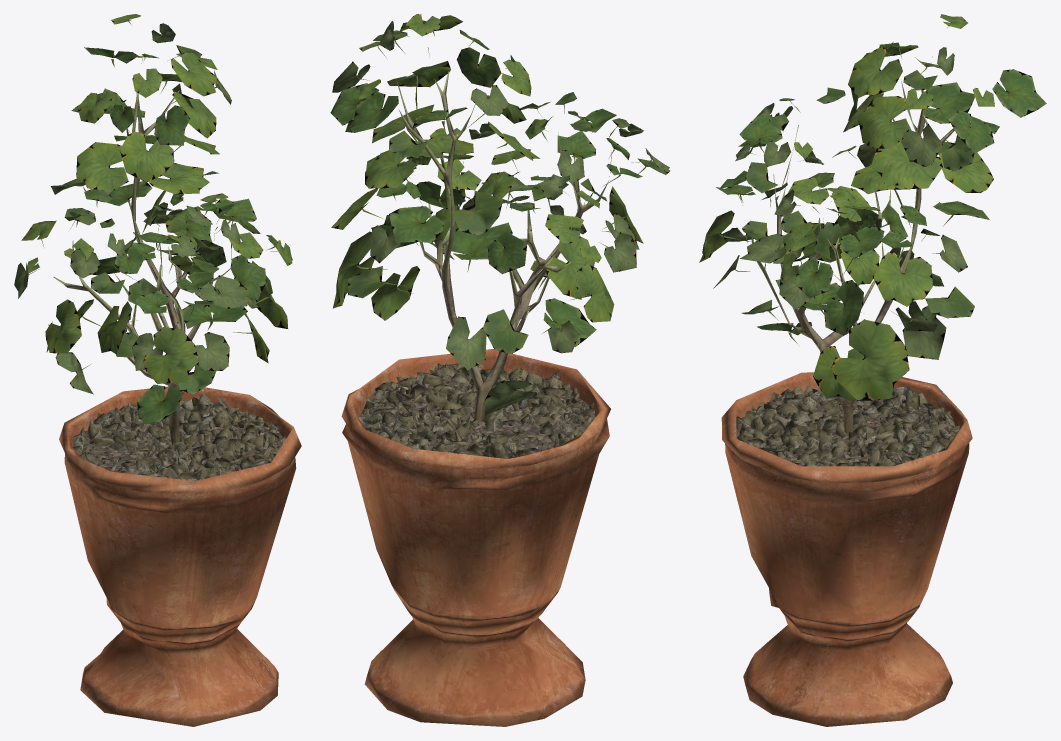
The model's file is plant-large.glb.
3 renders of one model, left to right at view 1: azimuth 30°, elevation 25°; view 2: azimuth 150°, elevation 25°; view 3: azimuth 270°, elevation 25°, orthographic. The views are drawn at different scales.
Visible parts, largest first — view 1: potted_plant_01_stem, potted_plant_01_leaves; view 2: potted_plant_01_stem, potted_plant_01_leaves; view 3: potted_plant_01_stem, potted_plant_01_leaves.
Boxes of the visible parts, x1,y1,x2,y2 form: potted_plant_01_stem: (53,54,301,726); potted_plant_01_leaves: (14,14,292,424); potted_plant_01_stem: (341,47,611,726); potted_plant_01_leaves: (330,14,669,415); potted_plant_01_stem: (721,56,972,726); potted_plant_01_leaves: (699,14,1046,401).
Bounding box in the file's own units: 0.5867 × 1.33 × 0.6336.
2 materials, 2 textured.
